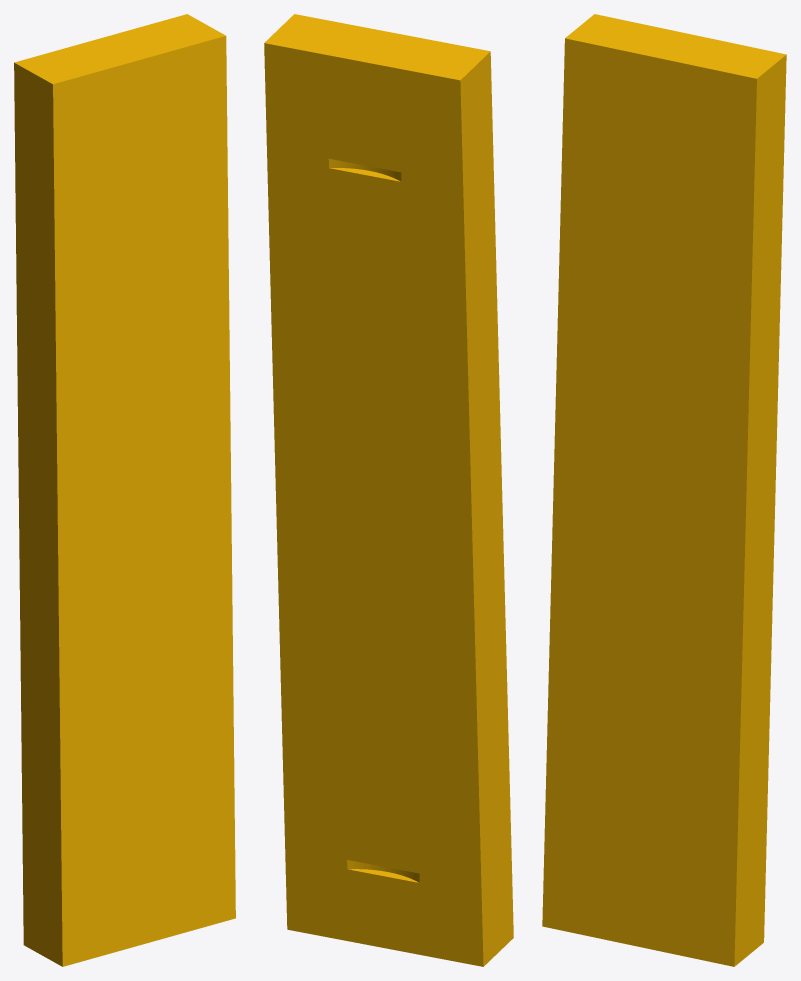
The model's file is original-12.obj.
The picture shows the model from 3 angles, left to right: view 1: azimuth 30°, elevation 25°; view 2: azimuth 150°, elevation 25°; view 3: azimuth 330°, elevation 25°; orthographic projection. The views are drawn at different scales.
Visible parts, largest first — view 1: Group11/mesh18/mesh18-geometry#mesh18-geometry; view 2: Group11/mesh18/mesh18-geometry#mesh18-geometry; view 3: Group11/mesh18/mesh18-geometry#mesh18-geometry.
Boxes of the visible parts, <box> form: Group11/mesh18/mesh18-geometry#mesh18-geometry: <box>14,14,235,966</box>; Group11/mesh18/mesh18-geometry#mesh18-geometry: <box>264,14,513,966</box>; Group11/mesh18/mesh18-geometry#mesh18-geometry: <box>542,14,786,966</box>.
Bounding box in the file's own units: 0.037 × 0.1599 × 0.0195.
